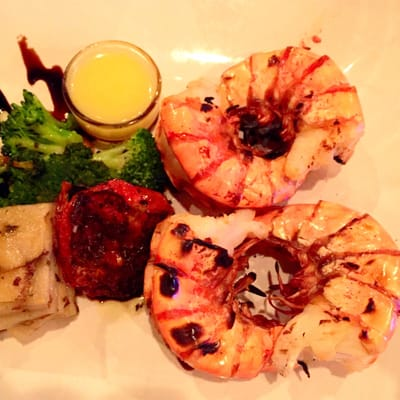curry: (0, 88, 165, 206)
sushi: (62, 39, 163, 142)
